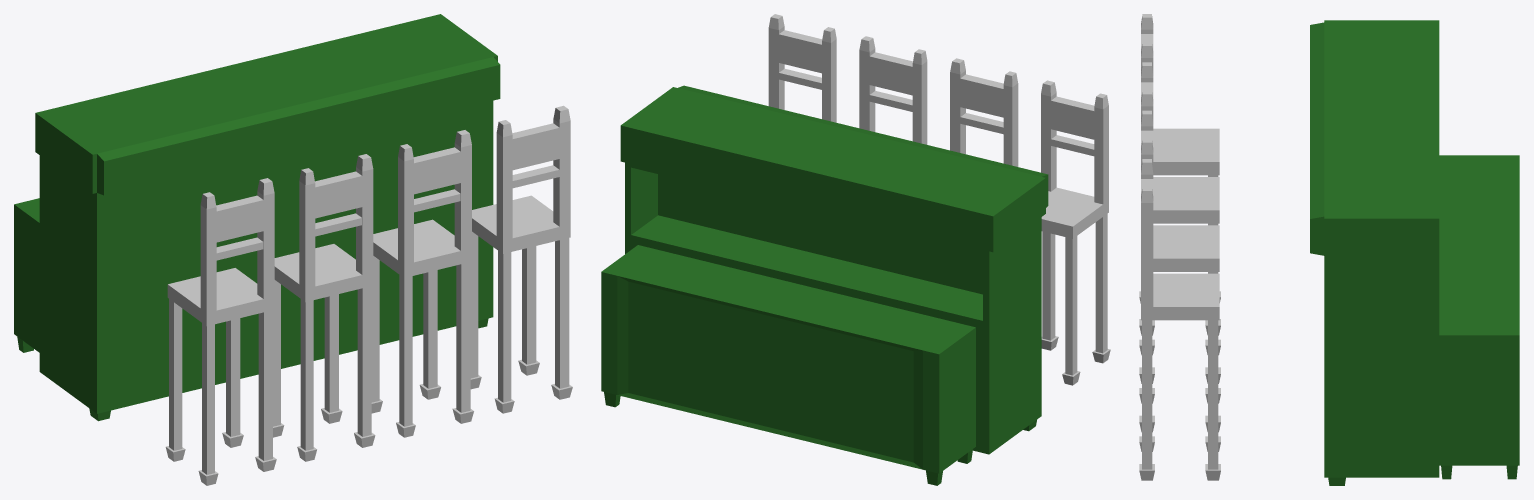
The model's file is kursi_bar.fbx.
3 renders of one model, left to right at view 1: azimuth 30°, elevation 25°; view 2: azimuth 150°, elevation 25°; view 3: azimuth 270°, elevation 25°, orthographic. The views are drawn at different scales.
Visible parts, largest first — view 1: Cube, kursi; view 2: Cube, kursi; view 3: Cube, kursi.
Boxes of the visible parts, box(x1,y1,x2,y2) form: Cube: box(14, 14, 500, 421); kursi: box(165, 105, 572, 485); Cube: box(601, 85, 1048, 485); kursi: box(768, 14, 1110, 385); Cube: box(1310, 20, 1519, 485); kursi: box(1139, 14, 1220, 480).
Bounding box in the file's own units: 459 × 312 × 372.
